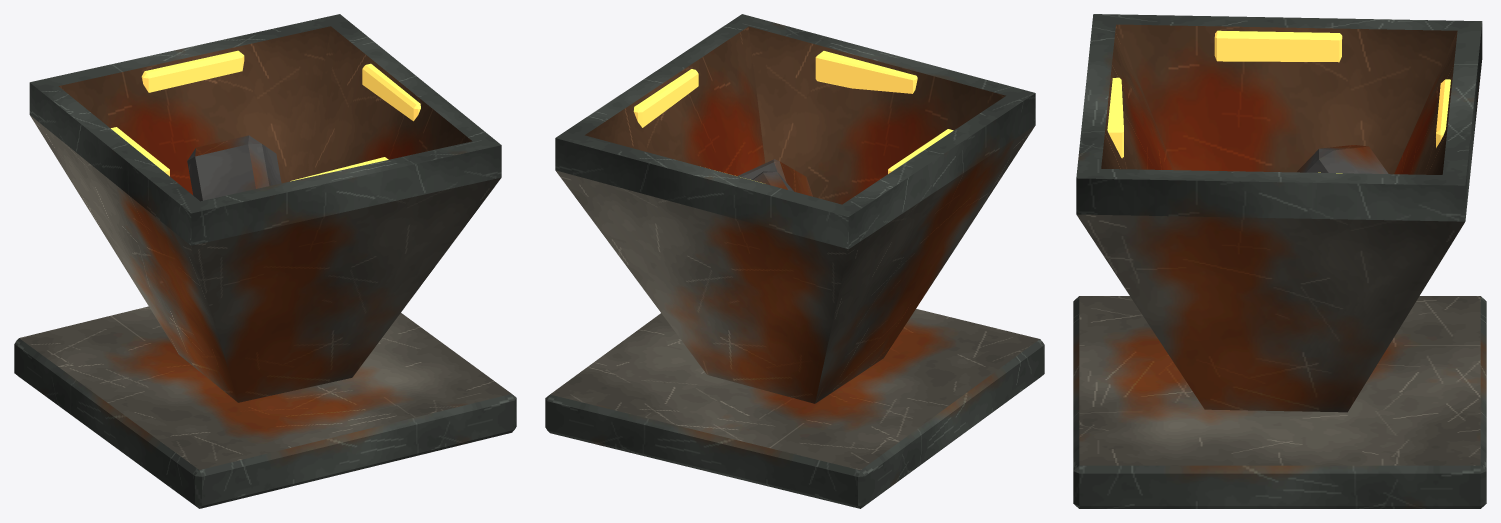
The model's file is R4X_SalvageOptimizer_LOD1.glb.
3 renders of one model, left to right at view 1: azimuth 30°, elevation 25°; view 2: azimuth 150°, elevation 25°; view 3: azimuth 270°, elevation 25°, orthographic. The views are drawn at different scales.
Parts seen in each view (by area): view 1: R4X_SalvageOptimizer_LOD1; view 2: R4X_SalvageOptimizer_LOD1; view 3: R4X_SalvageOptimizer_LOD1.
Boxes of the visible parts, bbox=[...] form: R4X_SalvageOptimizer_LOD1: bbox=[14, 14, 516, 508]; R4X_SalvageOptimizer_LOD1: bbox=[545, 14, 1044, 508]; R4X_SalvageOptimizer_LOD1: bbox=[1073, 14, 1486, 508].
Bounding box in the file's own units: 0.52 × 0.45 × 0.52.
5 materials, 4 textured.
